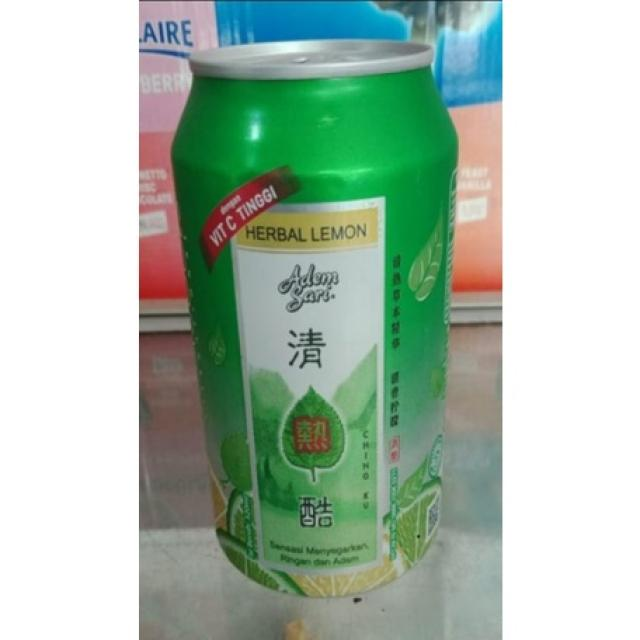ademsarikaleng: (168, 36, 460, 598)
